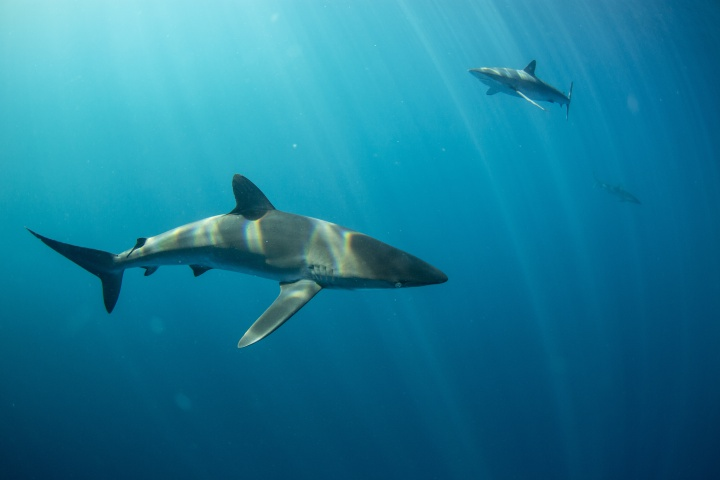Sedoso: (16, 170, 477, 351)
